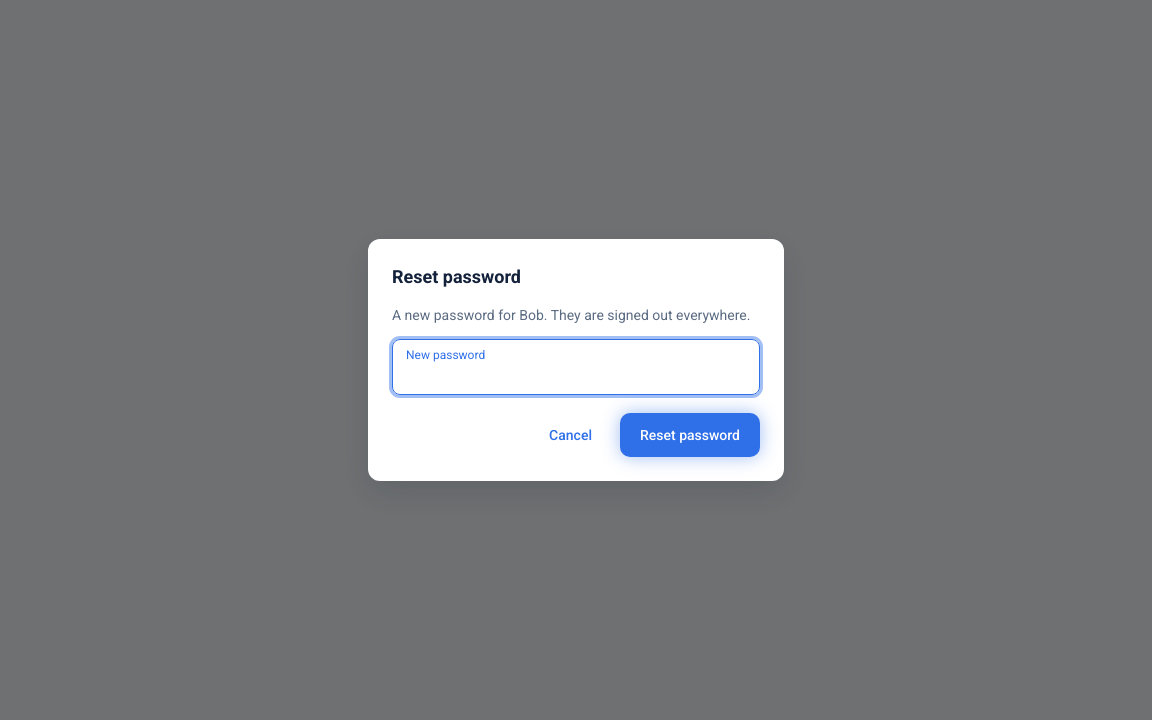
Test: ResetPasswordDialog › sets the new password, says who was signed out, and closes
The width and height of the screenshot is (1152, 720).
In the password field labelled "New password": point(576, 367) [392, 339, 760, 395], type "correct horse battery"
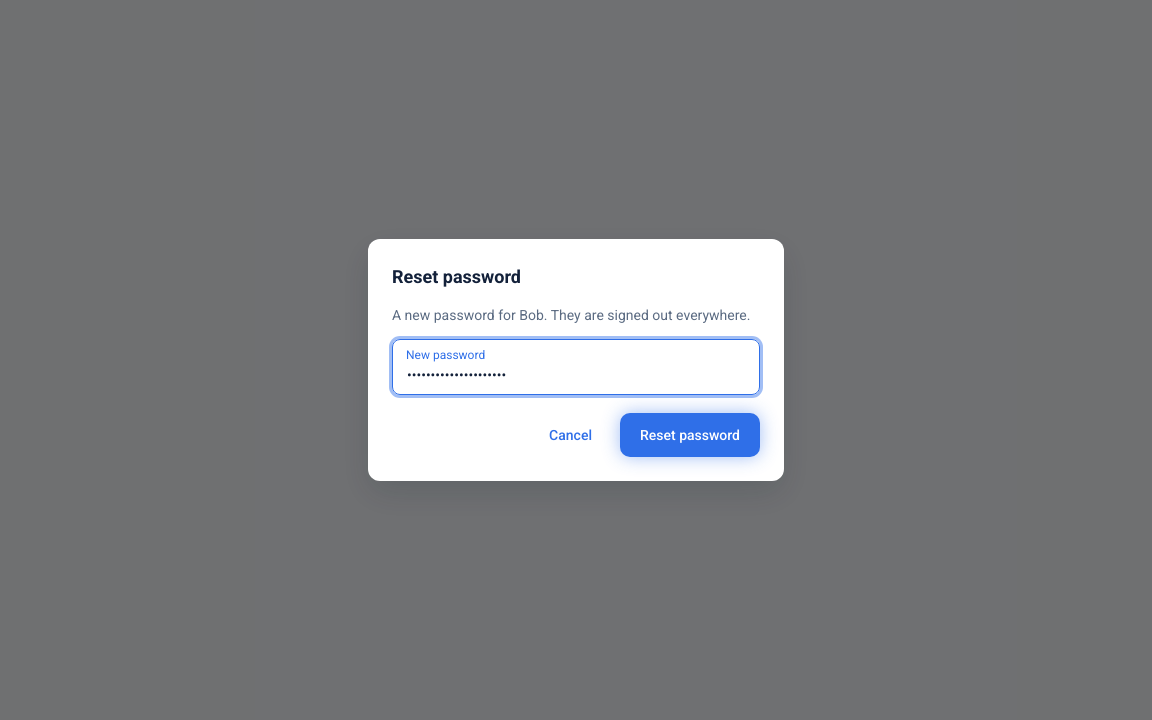
Click the button "Reset password": point(690, 435) [620, 413, 760, 457]
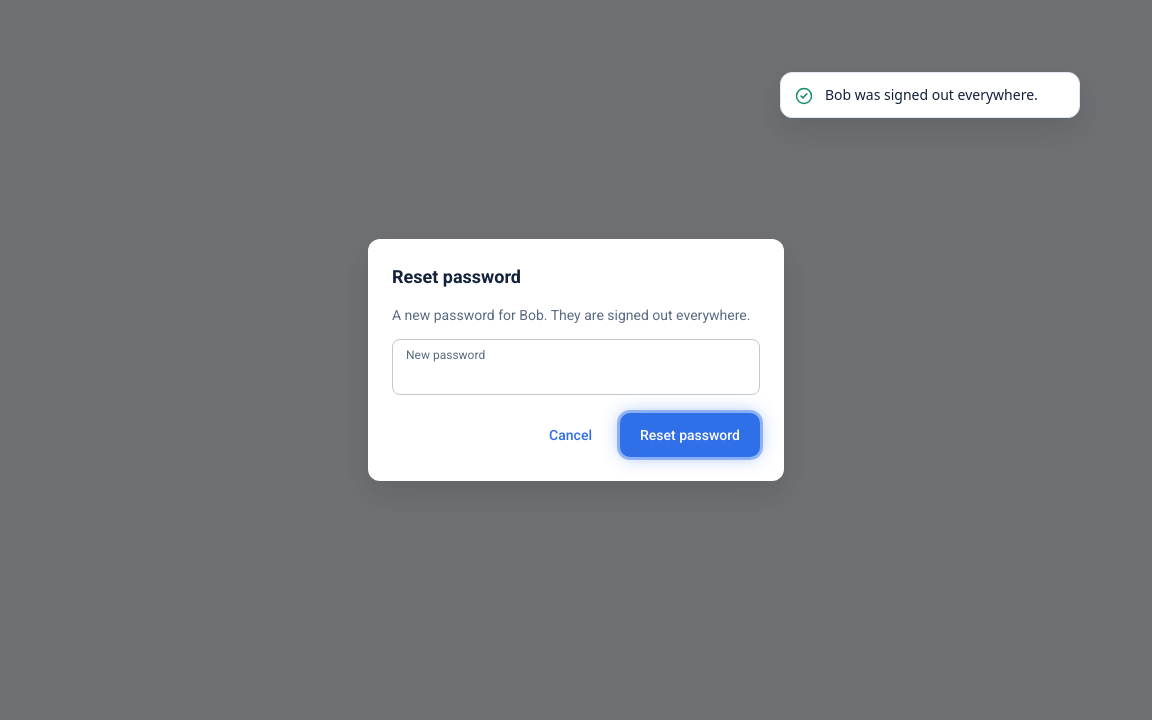
Now the text "Bob was signed out everywhere." is shown, box [825, 85, 1065, 105]
